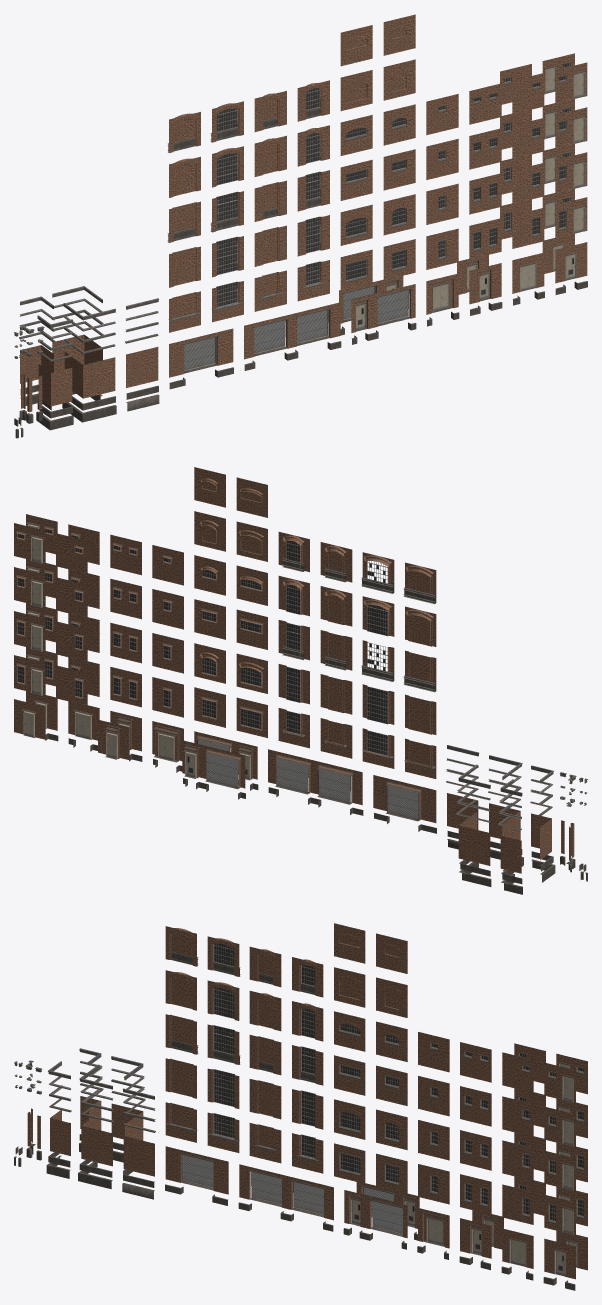
The model's file is modular_factory_facade.glb.
3 renders of one model, top to bottom at view 1: azimuth 30°, elevation 25°; view 2: azimuth 150°, elevation 25°; view 3: azimuth 330°, elevation 25°, orthographic.
Parts seen in each view (by area): view 1: door_garage_double_01, wall_standard_corner_large_01, wall_door_garage_double_01, door_garage_door_01, wall_door_garage_centered_01, wall_window_centered_medium_05, wall_window_tall_small_09, wall_standard_standard_01, wall_window_centered_large_05, wall_window_centered_medium_06, wall_window_tall_small_07, wall_window_centered_large_06 (+57 smaller); view 2: door_garage_double_01, door_garage_door_02, wall_door_garage_double_01, wall_door_garage_centered_01, wall_standard_corner_large_02, wall_window_tall_small_09, wall_window_tall_small_07, wall_window_tall_small_06, wall_window_tall_large_09, wall_window_tall_large_07, wall_window_centered_medium_06, wall_window_centered_medium_05 (+62 smaller); view 3: door_garage_double_01, wall_door_garage_double_01, door_garage_door_01, wall_door_garage_centered_01, wall_standard_corner_large_01, wall_window_tall_small_07, wall_window_tall_small_09, wall_window_tall_small_06, wall_window_tall_large_09, wall_window_centered_large_05, wall_window_tall_large_07, wall_window_centered_medium_05 (+67 smaller).
Boxes of the visible parts, left/top/right/bottom form: door_garage_double_01: left=253, top=307, right=331, bottom=356; wall_standard_corner_large_01: left=64, top=352, right=115, bottom=398; wall_door_garage_double_01: left=244, top=302, right=340, bottom=359; door_garage_door_01: left=355, top=288, right=412, bottom=331; wall_door_garage_centered_01: left=169, top=328, right=233, bottom=377; wall_window_centered_medium_05: left=383, top=59, right=415, bottom=100; wall_window_tall_small_09: left=254, top=135, right=286, bottom=176; wall_standard_standard_01: left=126, top=347, right=158, bottom=387; wall_window_centered_large_05: left=340, top=70, right=372, bottom=110; wall_window_centered_medium_06: left=383, top=14, right=415, bottom=55; wall_window_tall_small_07: left=254, top=225, right=286, bottom=266; wall_window_centered_large_06: left=340, top=25, right=372, bottom=66; door_garage_double_01: left=275, top=754, right=353, bottom=804; door_garage_door_02: left=184, top=744, right=241, bottom=789; wall_door_garage_double_01: left=268, top=749, right=362, bottom=805; wall_door_garage_centered_01: left=373, top=775, right=436, bottom=822; wall_standard_corner_large_02: left=458, top=812, right=490, bottom=865; wall_window_tall_small_09: left=320, top=586, right=352, bottom=626; wall_window_tall_small_07: left=320, top=674, right=352, bottom=714; wall_window_tall_small_06: left=320, top=718, right=352, bottom=758; wall_window_tall_large_09: left=405, top=606, right=436, bottom=646; wall_window_tall_large_07: left=405, top=694, right=436, bottom=734; wall_window_centered_medium_06: left=194, top=467, right=225, bottom=507; wall_window_centered_medium_05: left=194, top=511, right=225, bottom=551; door_garage_double_01: left=248, top=1169, right=324, bottom=1217; wall_door_garage_double_01: left=239, top=1164, right=333, bottom=1220; door_garage_door_01: left=348, top=1194, right=403, bottom=1236; wall_door_garage_centered_01: left=165, top=1146, right=228, bottom=1194; wall_standard_corner_large_01: left=81, top=1112, right=112, bottom=1166; wall_window_tall_small_07: left=249, top=1079, right=281, bottom=1119; wall_window_tall_small_09: left=249, top=991, right=281, bottom=1031; wall_window_tall_small_06: left=249, top=1123, right=281, bottom=1163; wall_window_tall_large_09: left=165, top=970, right=196, bottom=1010; wall_window_centered_large_05: left=334, top=967, right=365, bottom=1007; wall_window_tall_large_07: left=165, top=1058, right=196, bottom=1098; wall_window_centered_medium_05: left=376, top=977, right=407, bottom=1017.
Size of the model in its own units: 53.33 by 29 by 5.36.
6 materials, 6 textured.
